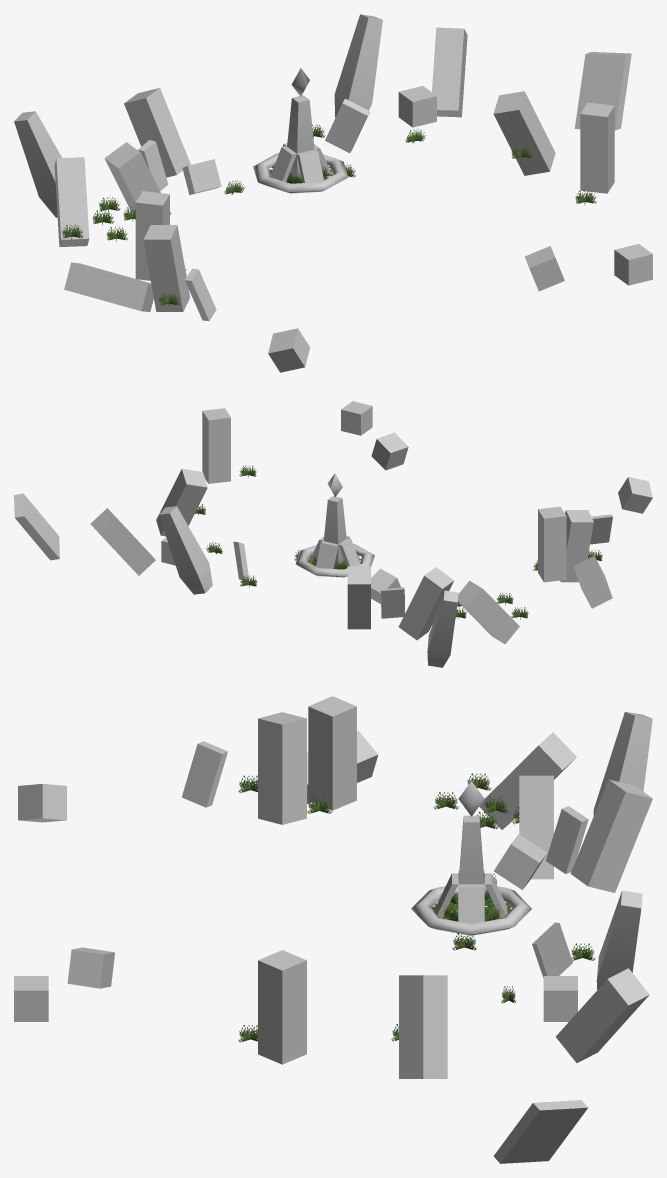
The model's file is map002_onground_ob.FBX.
The picture shows the model from 3 angles, top to bottom: view 1: azimuth 30°, elevation 25°; view 2: azimuth 150°, elevation 25°; view 3: azimuth 270°, elevation 25°; orthographic projection. The views are drawn at different scales.
Visible parts, largest first — view 1: Box065, Box058, Box057, Box054, Box082, Box073, Box071, Box084, Box072, Box069, Box083, Box056 (+9 smaller); view 2: Box065, Box082, Box055, Box057, Box056, Box069, Box084, Box083, Box054, Box058, Box073, Box071 (+8 smaller); view 3: Box065, Box054, Box073, Box057, Box055, Box058, Box084, Box071, Box069, Box056, Box083, Box082 (+9 smaller).
Boxes of the visible parts, bbox=[...] form: Box065: bbox=[253, 68, 348, 193]; Box058: bbox=[493, 91, 555, 175]; Box057: bbox=[580, 102, 614, 193]; Box054: bbox=[143, 225, 190, 311]; Box082: bbox=[334, 14, 382, 117]; Box073: bbox=[124, 88, 190, 177]; Box071: bbox=[574, 52, 631, 130]; Box084: bbox=[432, 27, 467, 117]; Box072: bbox=[64, 262, 153, 311]; Box069: bbox=[54, 157, 89, 246]; Box083: bbox=[14, 111, 61, 217]; Box056: bbox=[104, 142, 171, 219]; Box065: bbox=[295, 473, 374, 577]; Box082: bbox=[159, 506, 212, 594]; Box055: bbox=[538, 506, 566, 582]; Box057: bbox=[202, 408, 230, 483]; Box056: bbox=[398, 567, 454, 640]; Box069: bbox=[457, 580, 519, 644]; Box084: bbox=[90, 508, 155, 575]; Box083: bbox=[427, 590, 458, 667]; Box054: bbox=[560, 510, 593, 582]; Box058: bbox=[156, 468, 207, 536]; Box073: bbox=[347, 566, 370, 629]; Box071: bbox=[14, 493, 59, 560]; Box065: bbox=[411, 781, 531, 935]; Box054: bbox=[258, 712, 306, 824]; Box073: bbox=[570, 779, 652, 892]; Box057: bbox=[258, 950, 306, 1064]; Box055: bbox=[308, 696, 356, 810]; Box058: bbox=[399, 975, 447, 1078]; Box084: bbox=[556, 968, 649, 1062]; Box071: bbox=[493, 1100, 587, 1163]; Box069: bbox=[479, 732, 576, 829]; Box056: bbox=[519, 775, 553, 879]; Box083: bbox=[593, 712, 652, 815]; Box082: bbox=[596, 890, 642, 989].
Bounding box in the file's own units: 31.66 × 7.42 × 22.18.
